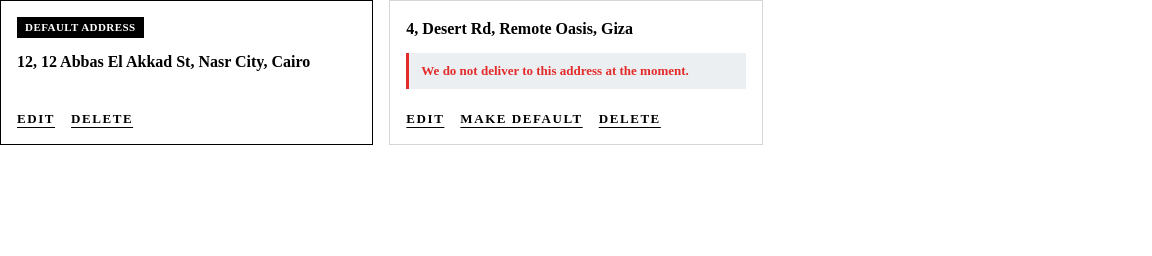
Test case: AddressBook › asks before deleting, and can keep the address
Click the button "Delete" below "Default address" at (102, 118), box [71, 108, 133, 128]
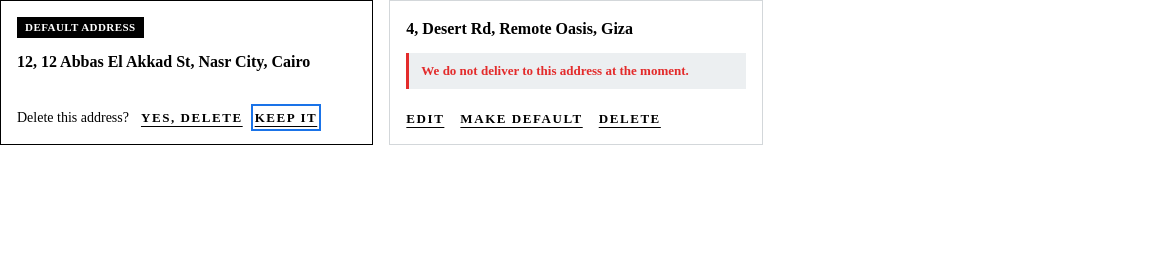
Result: the text "Delete this address?" is shown at [17, 107, 129, 128]
Click the button "Keep it" at (286, 118), box [255, 108, 317, 127]
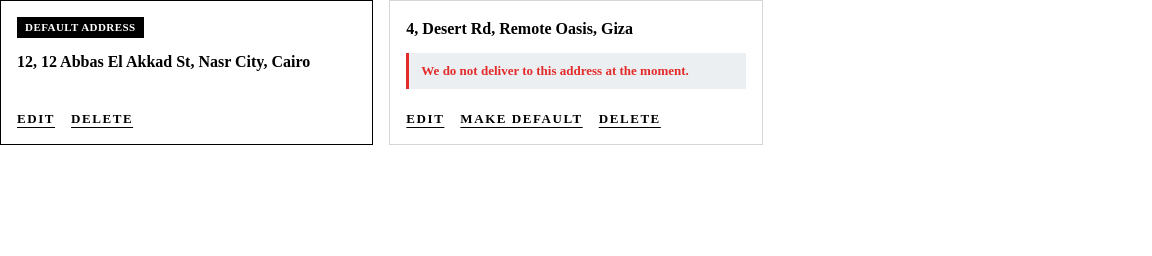
Click the button "Delete" below "Default address" at (102, 118), box [71, 108, 133, 128]
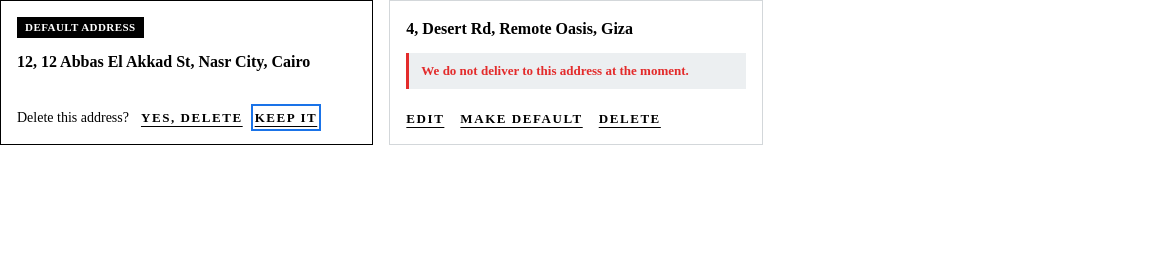
Click the button "Yes, delete" at (192, 118), box [141, 108, 243, 127]
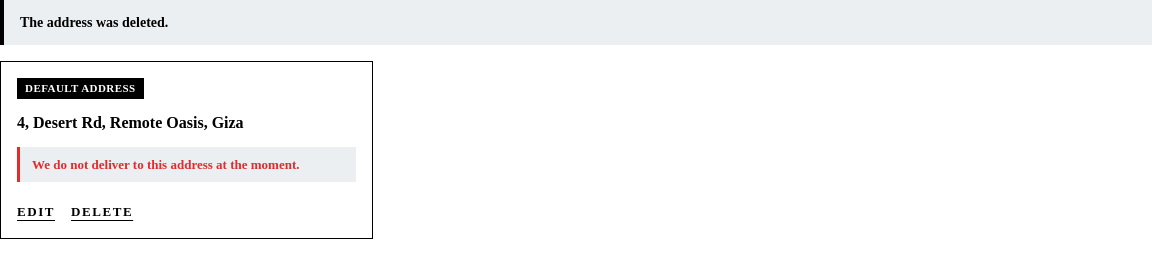
Result: the number of elements with test id "address" is 1 at [0, 61, 373, 238]
Result: the element with test id "addresses-status" reads "The address was deleted." at [20, 15, 168, 30]
